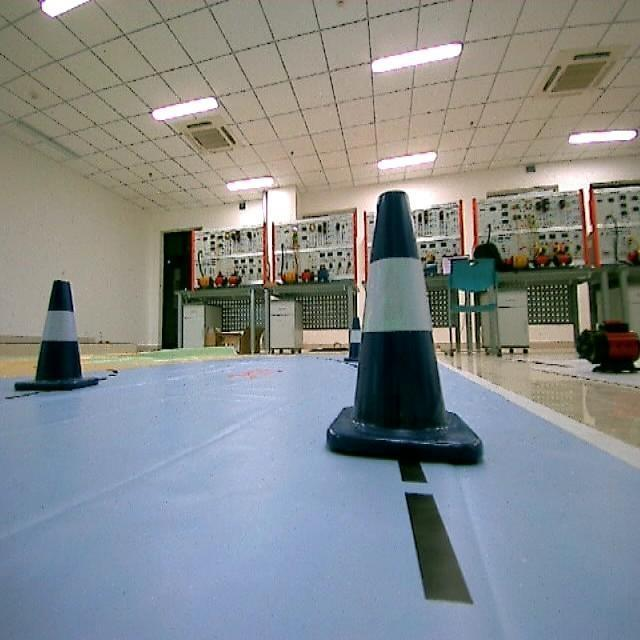obstacle: (318, 177, 490, 468), (6, 274, 106, 398)
